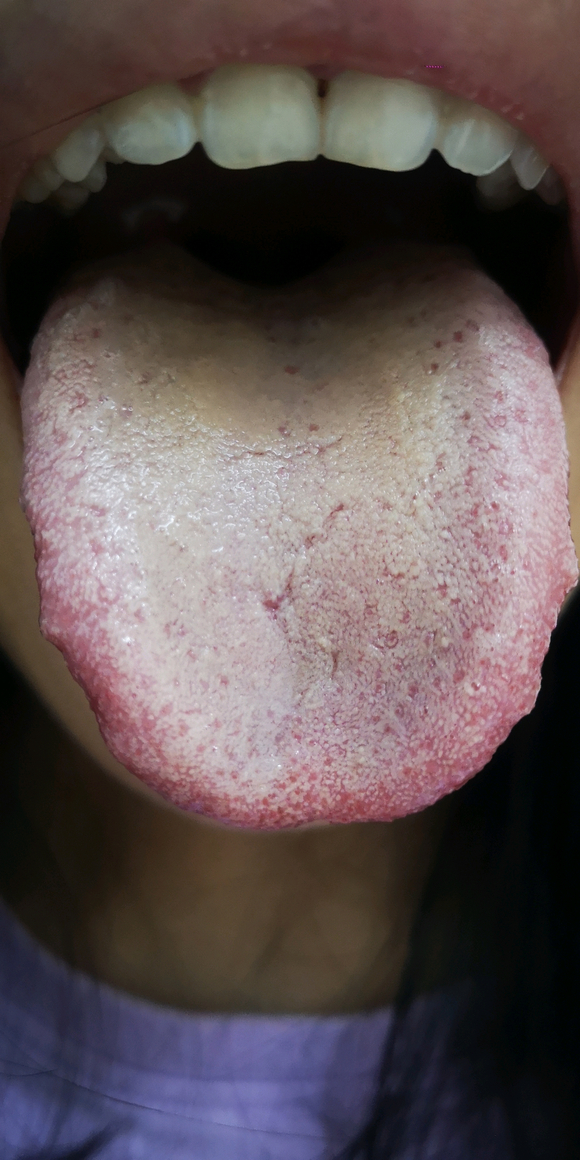hongdianshe: (84, 317, 105, 345), (276, 358, 299, 380), (448, 326, 468, 348)
huangtaishe: (20, 233, 567, 827)
